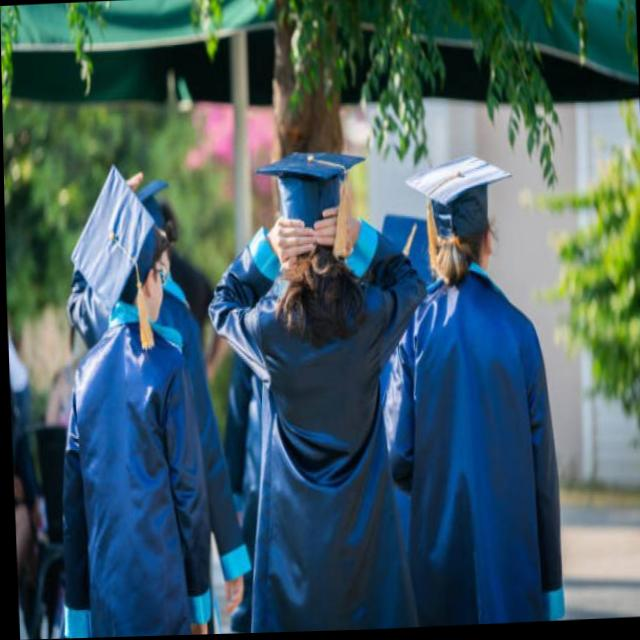no helmet: (248, 128, 388, 314), (64, 174, 176, 348), (397, 128, 508, 299)
